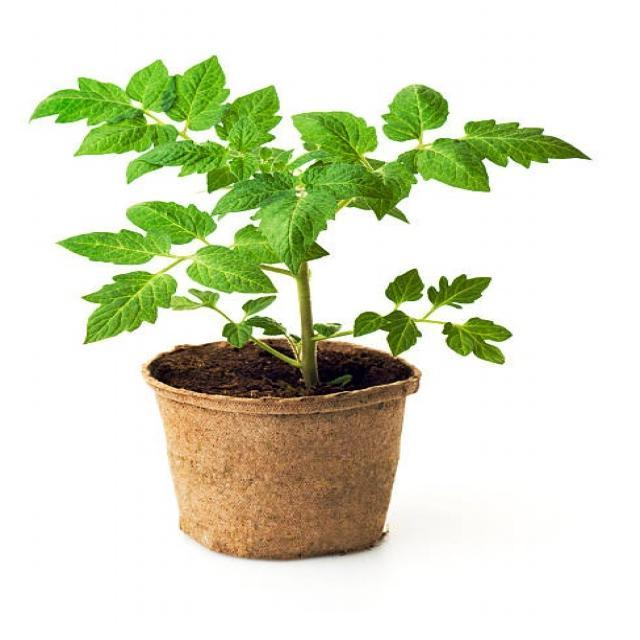tomato: (28, 56, 591, 395)
